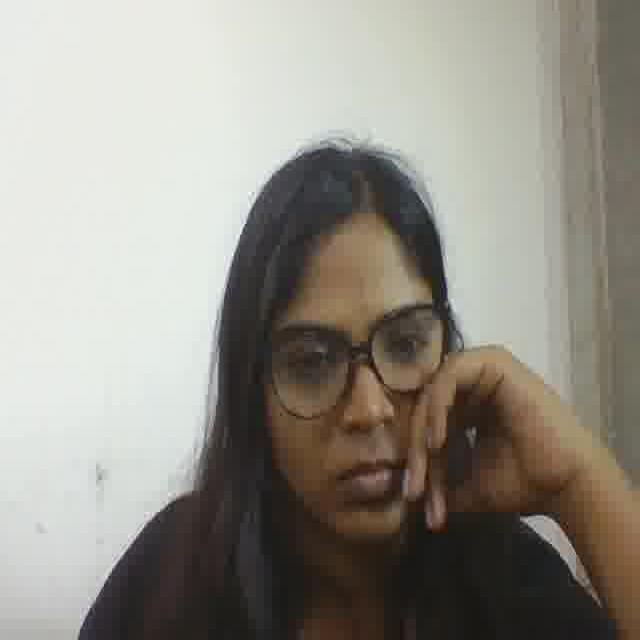Boredom: (259, 226, 439, 538)
